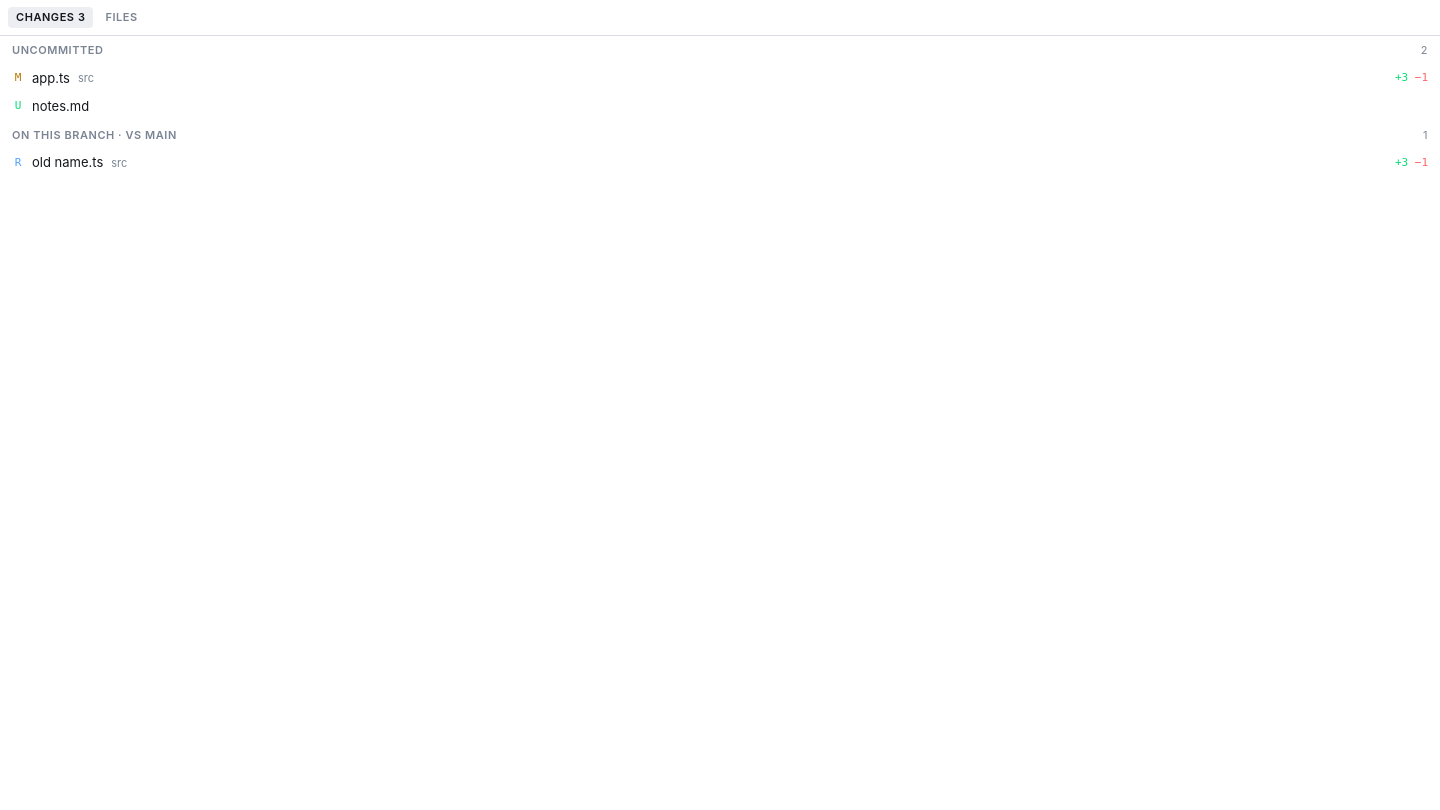
Test: ChangesPanel › says why a file cannot be shown instead of showing garbage
The width and height of the screenshot is (1440, 810).
Click the button titled "src/app.ts": [51, 78] box [0,64,1439,92]
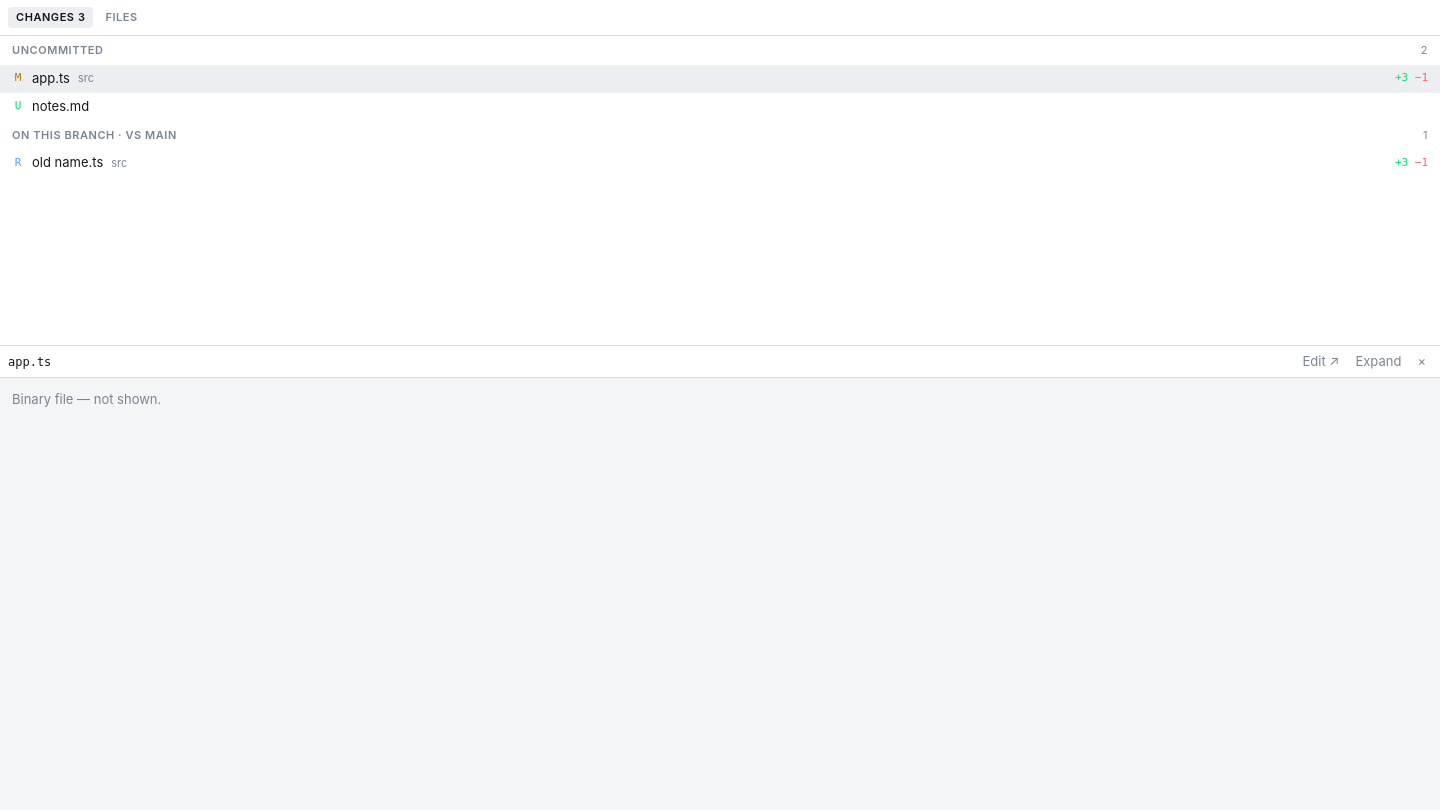
Expected: the text "Binary file — not shown." is shown, [12,391,161,407]
Click the button titled "notes.md": [61, 106] box [0,92,1439,120]
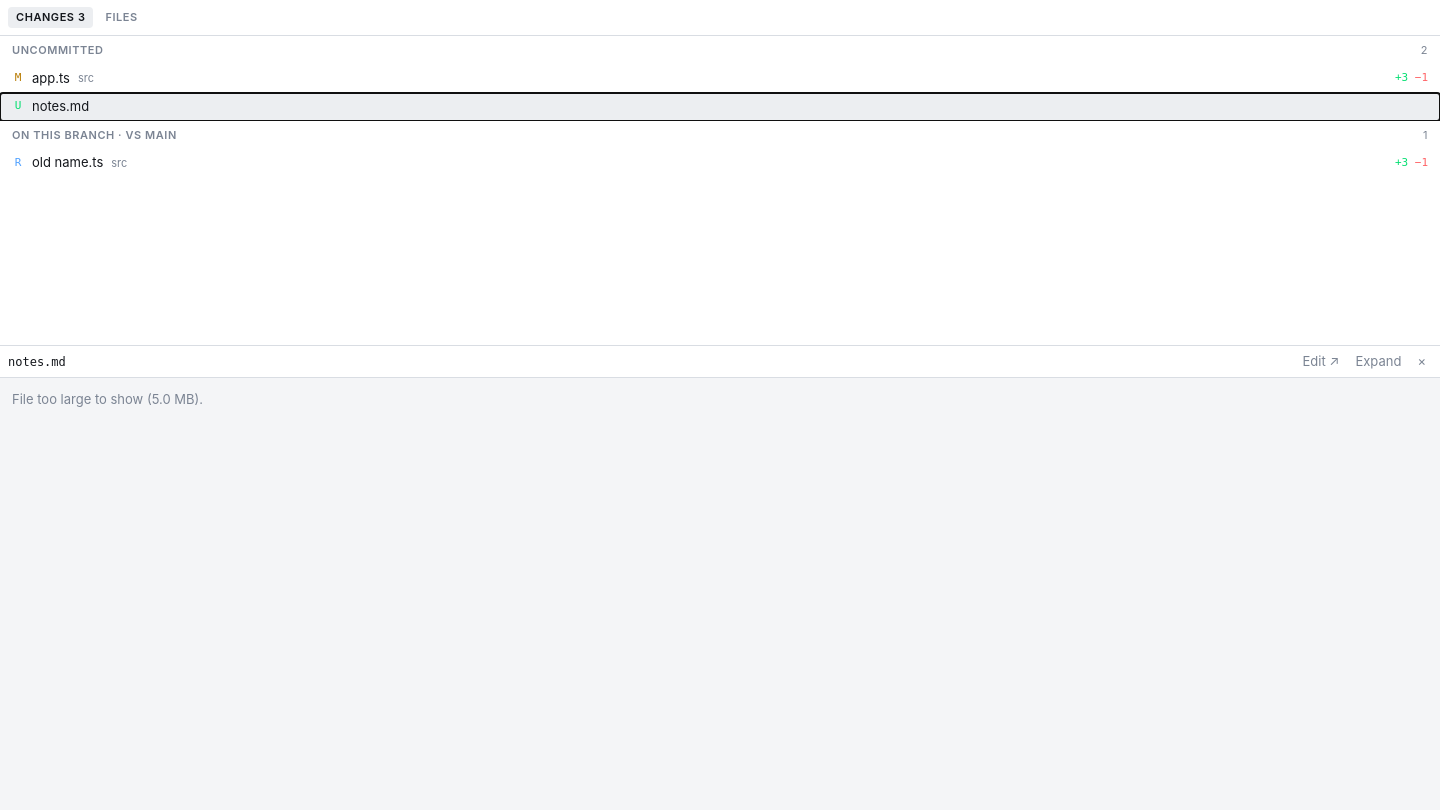
Expected: the text "File too large to show (5.0 MB)." is shown, [12,391,203,407]
